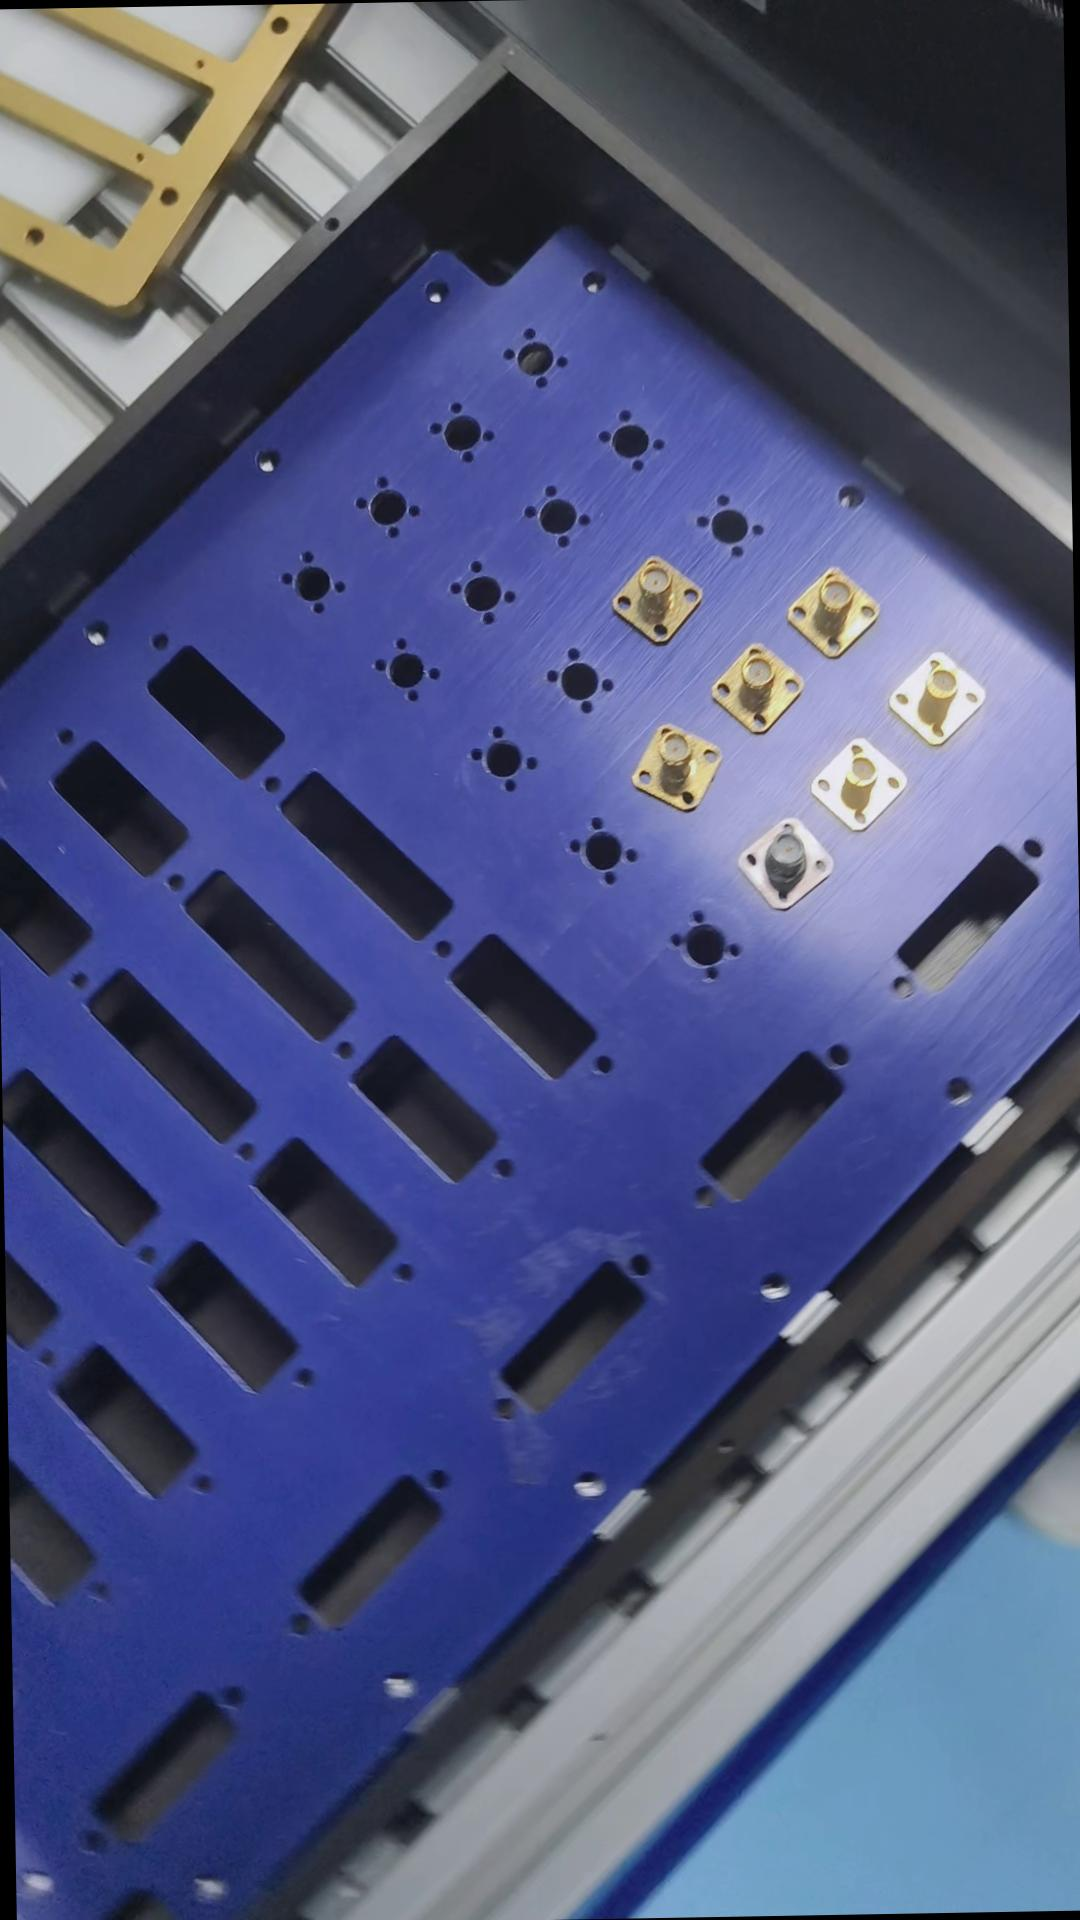SMA: (885, 647, 986, 745), (735, 810, 832, 905), (705, 640, 799, 737), (804, 737, 905, 827), (786, 564, 880, 657), (626, 720, 720, 810), (609, 553, 702, 640)
